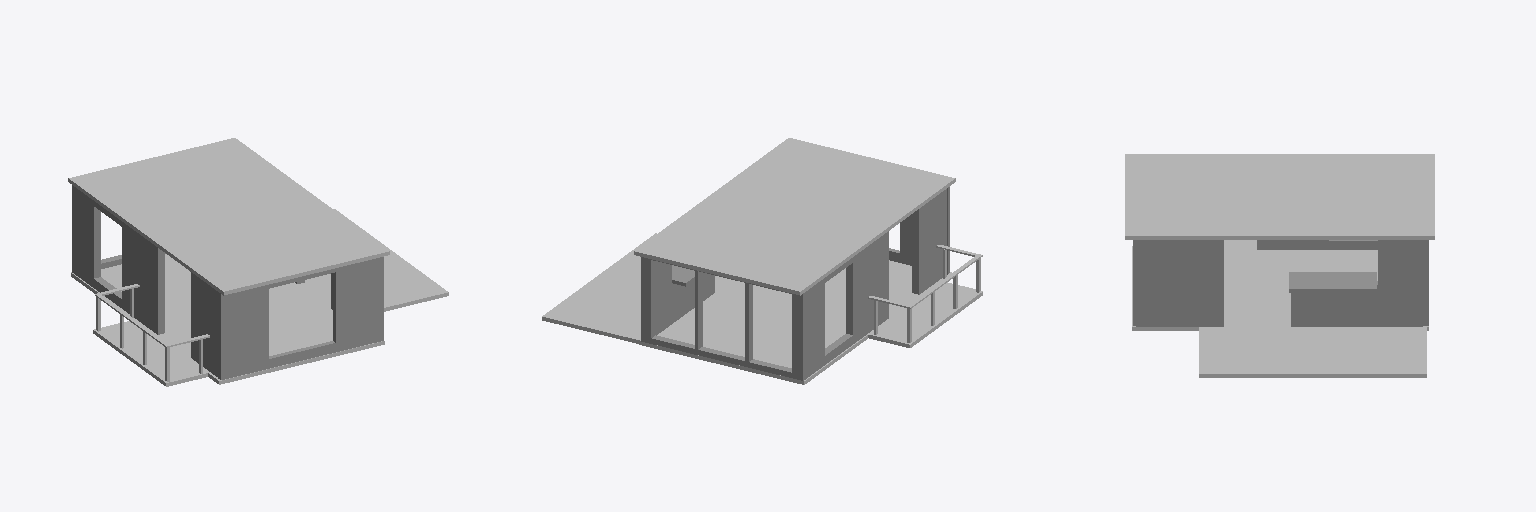
Rendered from walls_modern.obj.
3 renders of one model, left to right at view 1: azimuth 30°, elevation 25°; view 2: azimuth 150°, elevation 25°; view 3: azimuth 270°, elevation 25°, orthographic.
Parts seen in each view (by area): view 1: Cube.005, Cube.004, Cube.002, Cube.020_Cube.021, Cube, Cube.010, Cube.029_Cube.030, Cube.006, Cube.021_Cube.022, Cube.022_Cube.023; view 2: Cube.005, Cube.004, Cube.029_Cube.030, Cube, Cube.010, Cube.006, Cube.021_Cube.022, Cube.033_Cube.034, Cube.003, Cube.026_Cube.027, Cube.027_Cube.028, Cube.002 (+2 smaller); view 3: Cube.005, Cube.029_Cube.030, Cube.001, Cube.004, Cube.026_Cube.027, Cube.027_Cube.028, Cube.028_Cube.029, Cube.
Boxes of the visible parts, x1,y1,x2,y2 form: Cube.005: [68, 138, 389, 295]; Cube.004: [71, 254, 384, 384]; Cube.002: [218, 285, 268, 379]; Cube.020_Cube.021: [333, 257, 383, 351]; Cube: [122, 223, 164, 334]; Cube.010: [93, 319, 209, 386]; Cube.029_Cube.030: [305, 209, 448, 311]; Cube.006: [191, 272, 217, 376]; Cube.021_Cube.022: [76, 188, 100, 284]; Cube.022_Cube.023: [269, 341, 338, 368]; Cube.005: [634, 138, 955, 295]; Cube.004: [639, 260, 951, 384]; Cube.029_Cube.030: [542, 233, 725, 343]; Cube: [846, 231, 888, 343]; Cube.010: [868, 280, 982, 347]; Cube.006: [912, 189, 946, 294]; Cube.021_Cube.022: [808, 279, 824, 376]; Cube.033_Cube.034: [792, 291, 807, 380]; Cube.003: [641, 257, 655, 342]; Cube.026_Cube.027: [656, 261, 671, 335]; Cube.027_Cube.028: [671, 273, 714, 324]; Cube.002: [900, 187, 949, 274]; Cube.005: [1125, 154, 1434, 239]; Cube.029_Cube.030: [1199, 325, 1426, 377]; Cube.001: [1136, 240, 1223, 326]; Cube.004: [1132, 246, 1428, 330]; Cube.026_Cube.027: [1378, 240, 1422, 326]; Cube.027_Cube.028: [1291, 281, 1378, 326]; Cube.028_Cube.029: [1289, 272, 1376, 292]; Cube: [1257, 240, 1328, 249].
Size of the model in its own units: 32.59 by 9.76 by 28.71.